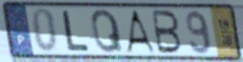0: (30, 6, 61, 55)
9: (185, 9, 213, 56)
A: (124, 9, 157, 55)
B: (151, 8, 184, 55)
L: (61, 9, 91, 53)
Q: (89, 8, 125, 55)
